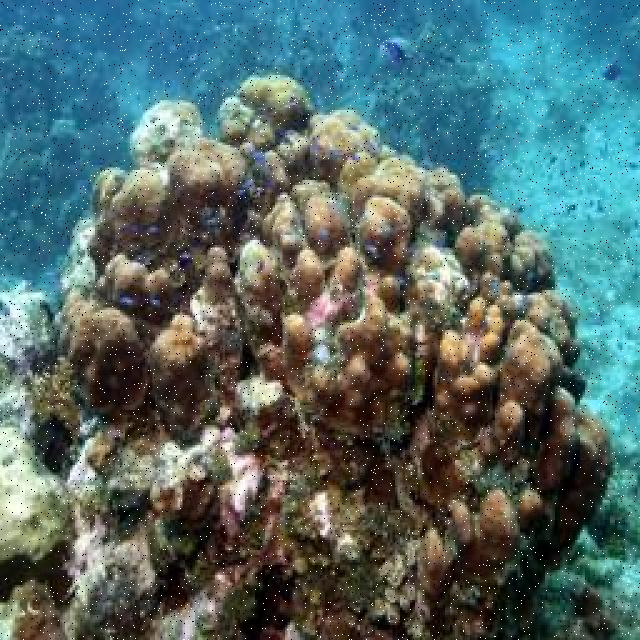reefs: (0, 73, 608, 638)
